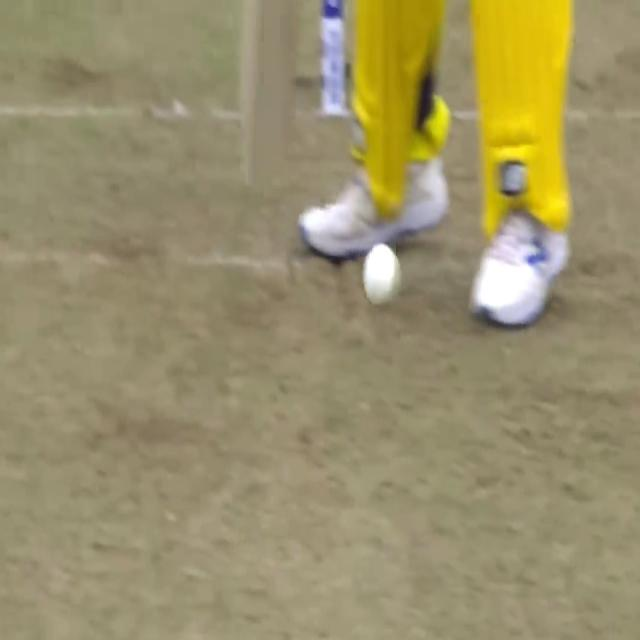ball: (354, 228, 414, 322)
